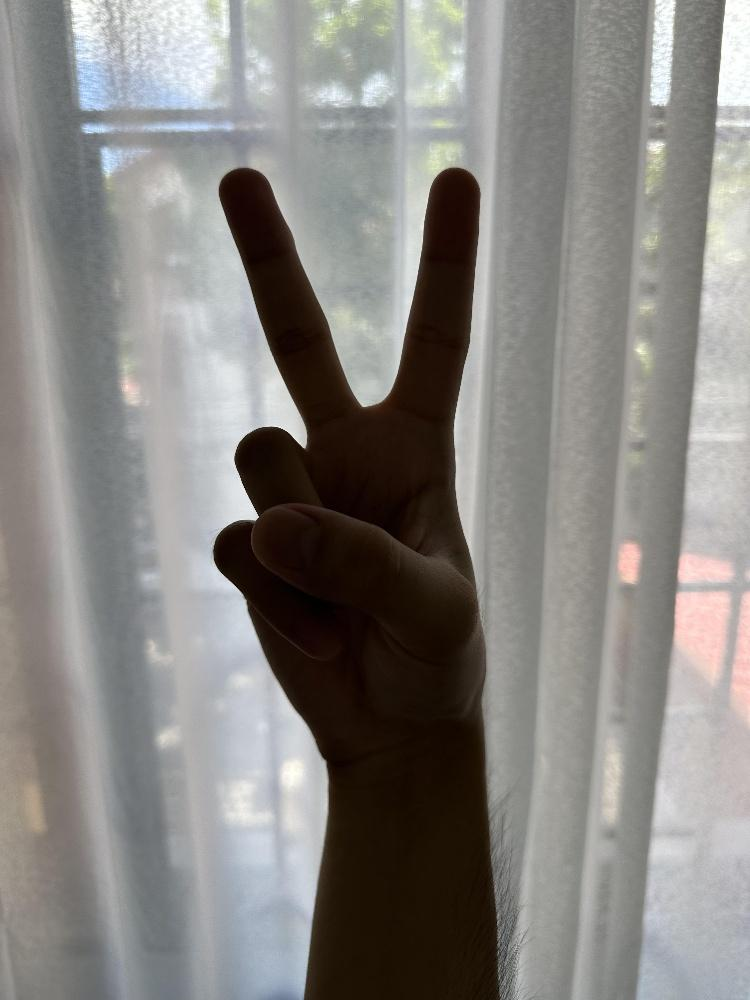v: (210, 159, 490, 765)
